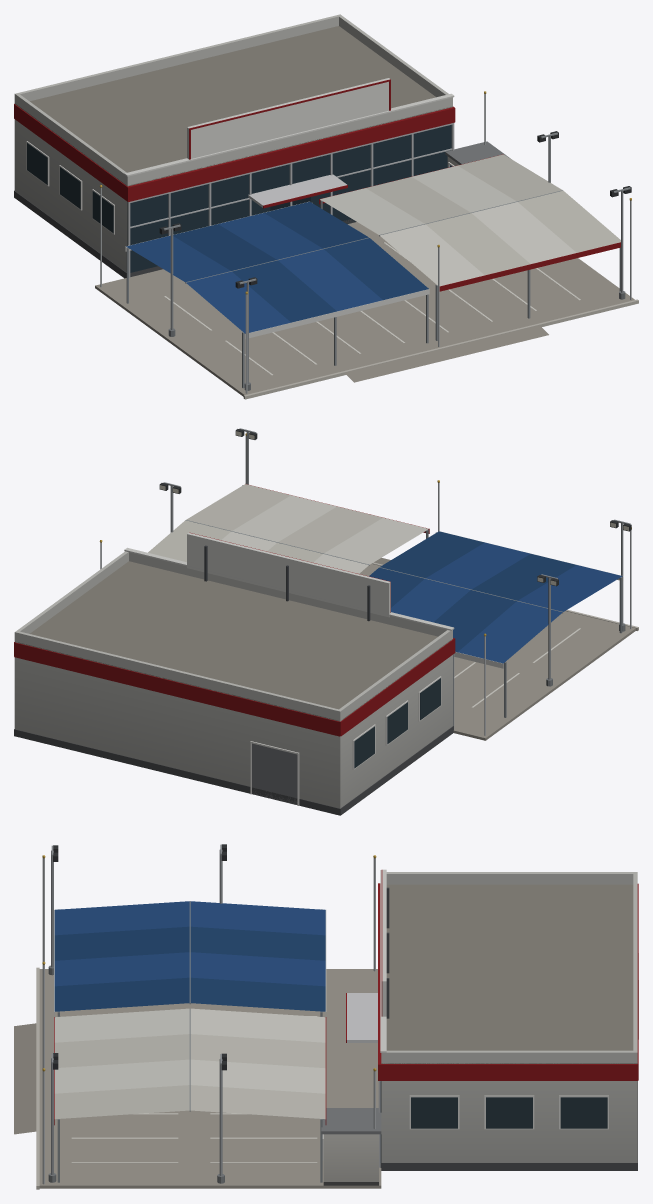
File: ns_carstand_lod1.glb
The picture shows the model from 3 angles, top to bottom: view 1: azimuth 30°, elevation 25°; view 2: azimuth 150°, elevation 25°; view 3: azimuth 270°, elevation 25°; orthographic projection. The views are drawn at different scales.
Parts seen in each view (by area): view 1: ns_carstand_lod1; view 2: ns_carstand_lod1; view 3: ns_carstand_lod1.
Boxes of the visible parts, box(x1,y1,x2,y2) form: ns_carstand_lod1: box(14, 14, 638, 399); ns_carstand_lod1: box(14, 428, 638, 815); ns_carstand_lod1: box(14, 844, 638, 1189).
Bounding box in the file's own units: 24.4 × 8 × 29.27.
